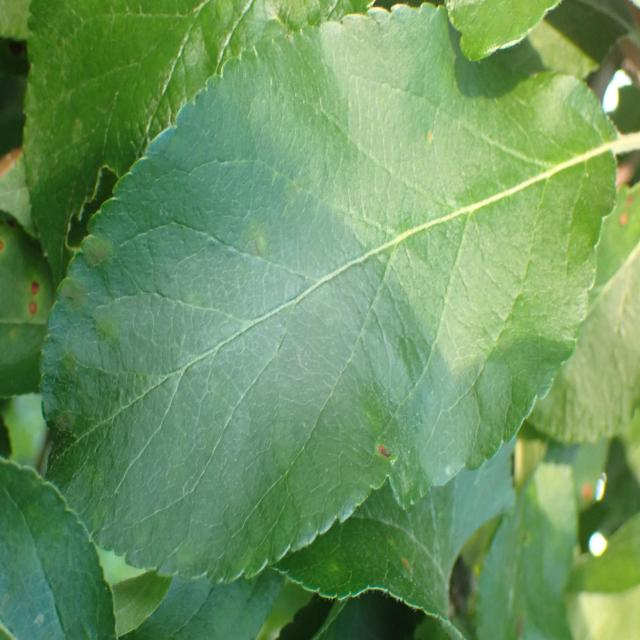frog-eye-leaf-spot: (39, 2, 620, 587)
